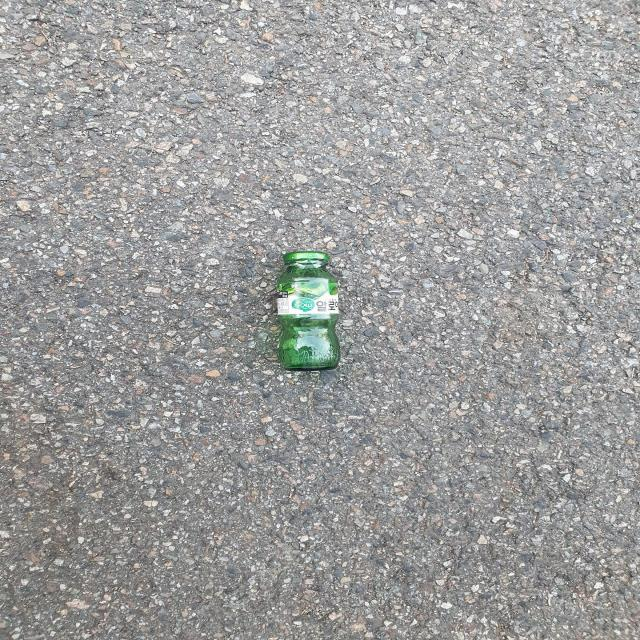glass: (277, 252, 340, 370)
